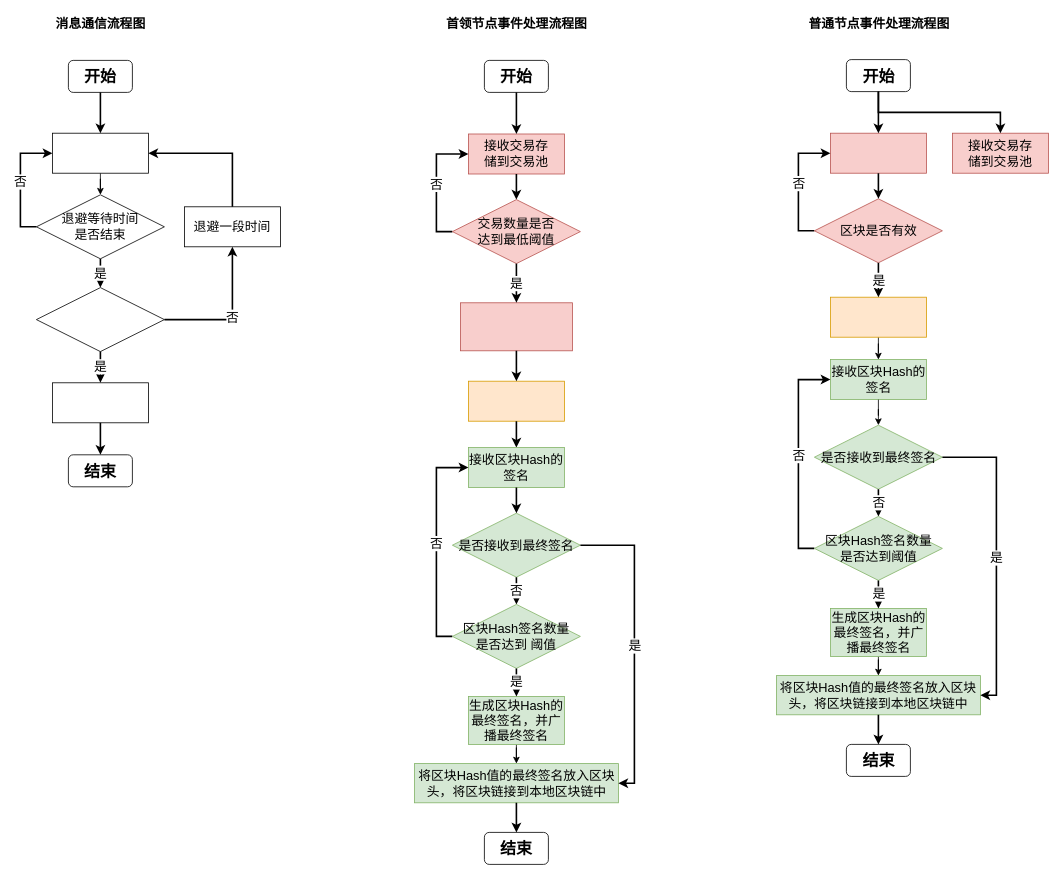
This 1062x878 diagram has some shape labels left out. Here are the shapes that lost their labels. From the top down, the box of each, then its label:
(52, 132, 148, 173): 等待信道
(830, 132, 926, 173): 接收区块
(36, 287, 164, 352): 信道是否空闲
(460, 302, 572, 351): 打包交易生成区块，计算区块的Hash，并广播区块
(830, 296, 926, 337): 对区块Hash的进行签名，并广播
(52, 382, 148, 423): 广播消息
(468, 380, 564, 421): 对区块Hash进行签名，并广播
